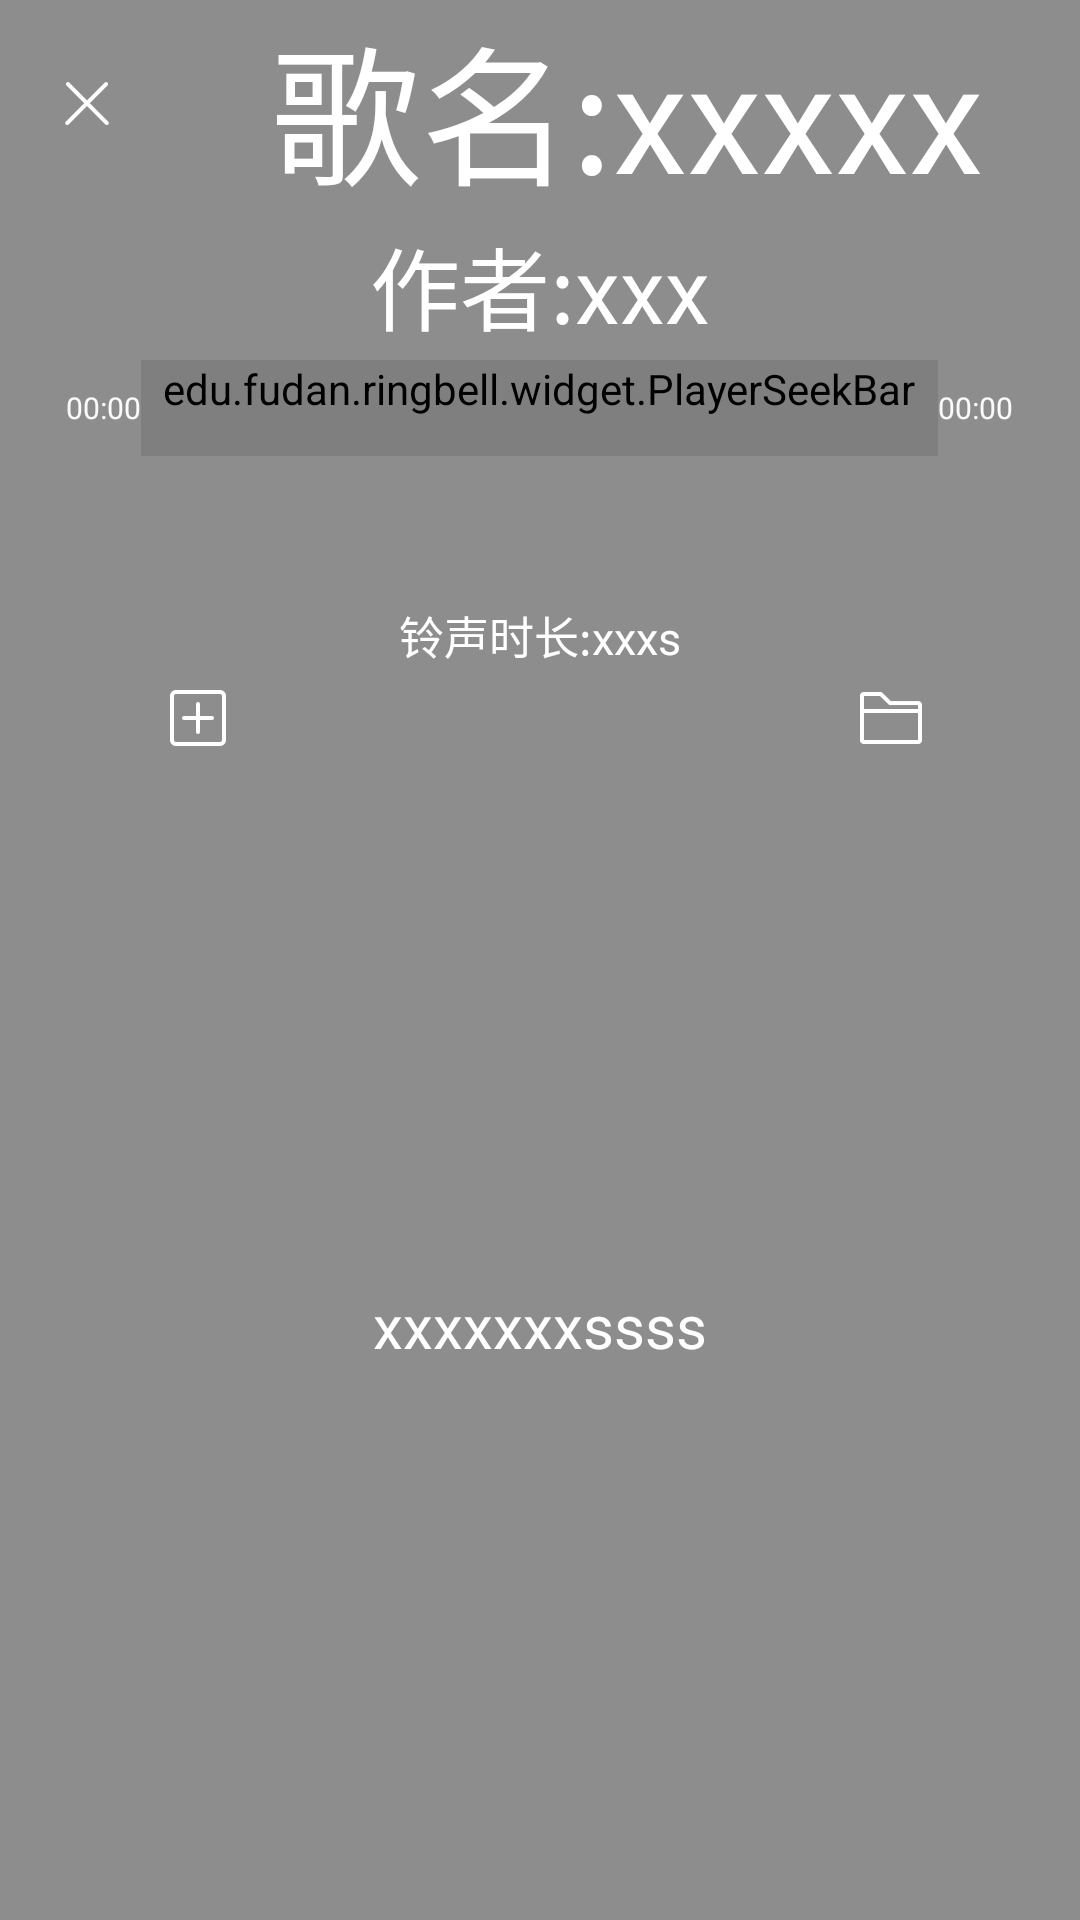

Named icons in this screenshot (1080px x 1920px) and their bounding boxes, bbox(x1, y1, x2, y2):
lay add: bbox(170, 690, 226, 746)
lay goback: bbox(65, 82, 109, 125)
list wfolder: bbox(860, 692, 922, 744)
